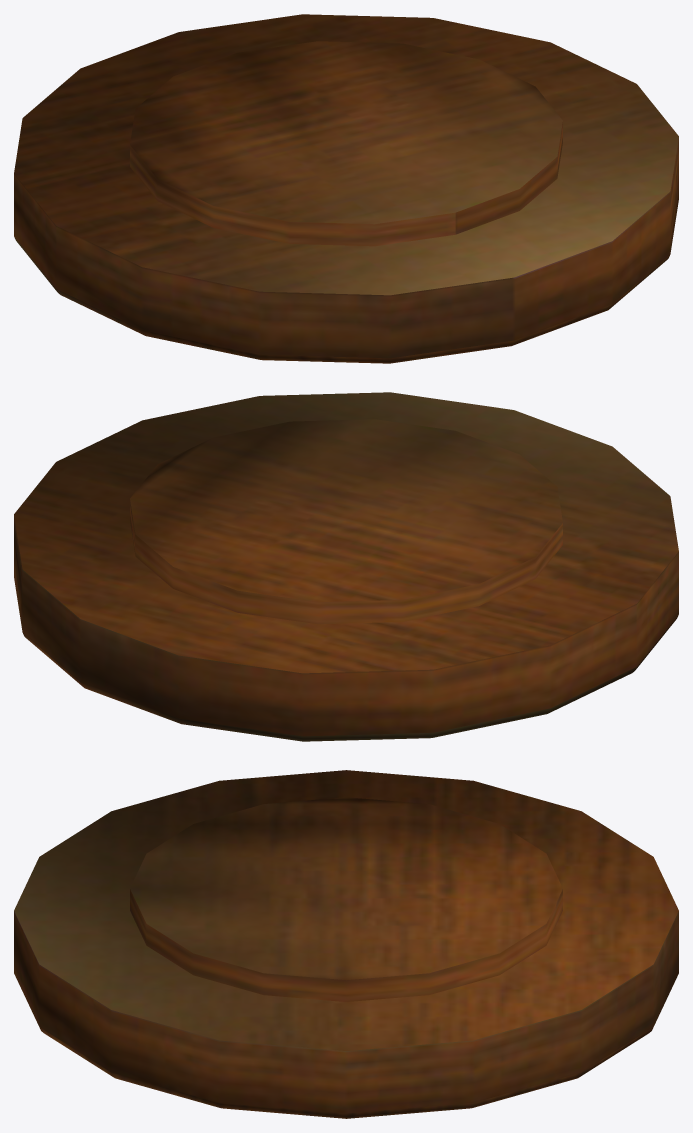
File: ceiling_light_1.obj
3 renders of one model, top to bottom at view 1: azimuth 30°, elevation 25°; view 2: azimuth 150°, elevation 25°; view 3: azimuth 270°, elevation 25°, orthographic.
Visible parts, largest first — view 1: ceiling_light_1; view 2: ceiling_light_1; view 3: ceiling_light_1.
Boxes of the visible parts, bbox=[...] form: ceiling_light_1: bbox=[14, 14, 678, 363]; ceiling_light_1: bbox=[14, 392, 678, 741]; ceiling_light_1: bbox=[14, 770, 678, 1118].
Bounding box in the file's own units: 3 × 0.5995 × 3.
1 material, 1 textured.
